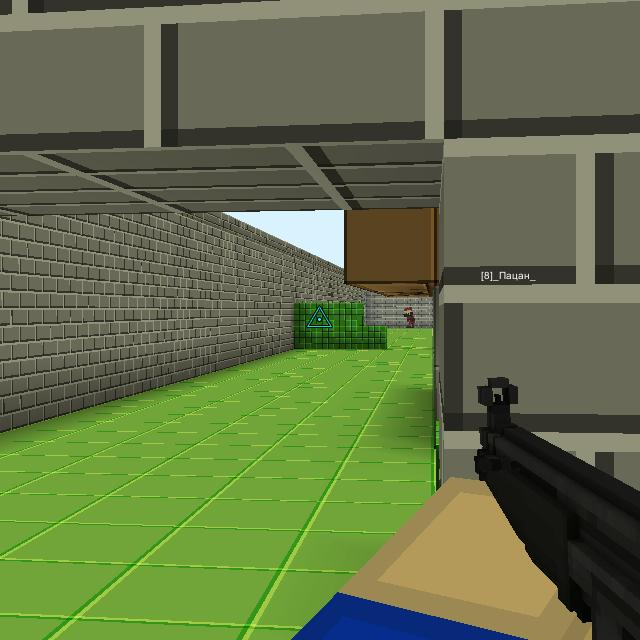enemy: (404, 306, 416, 329)
